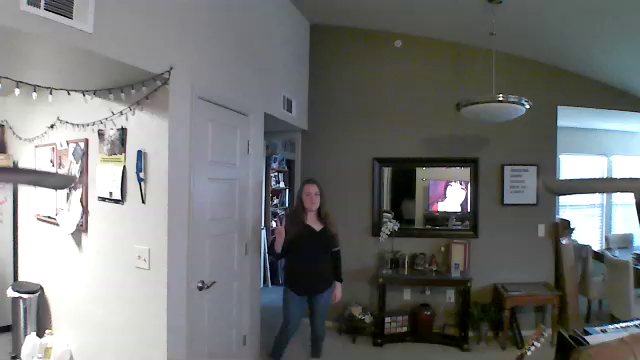peace: (269, 211, 291, 250)
